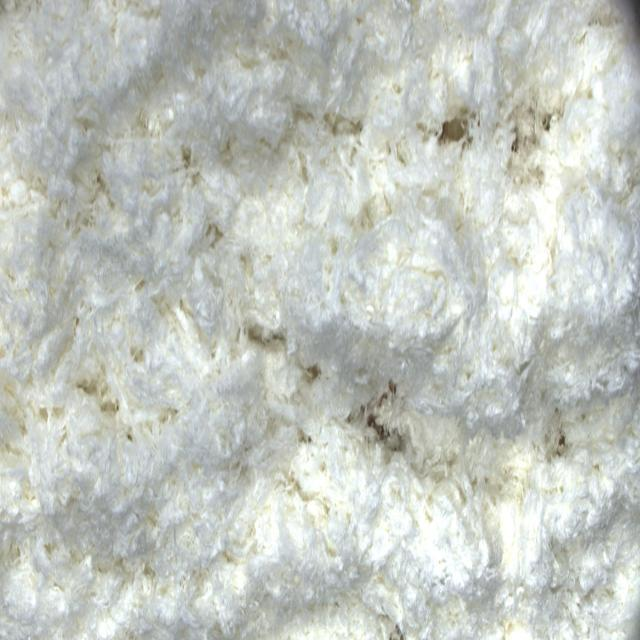dust: (441, 94, 478, 159)
